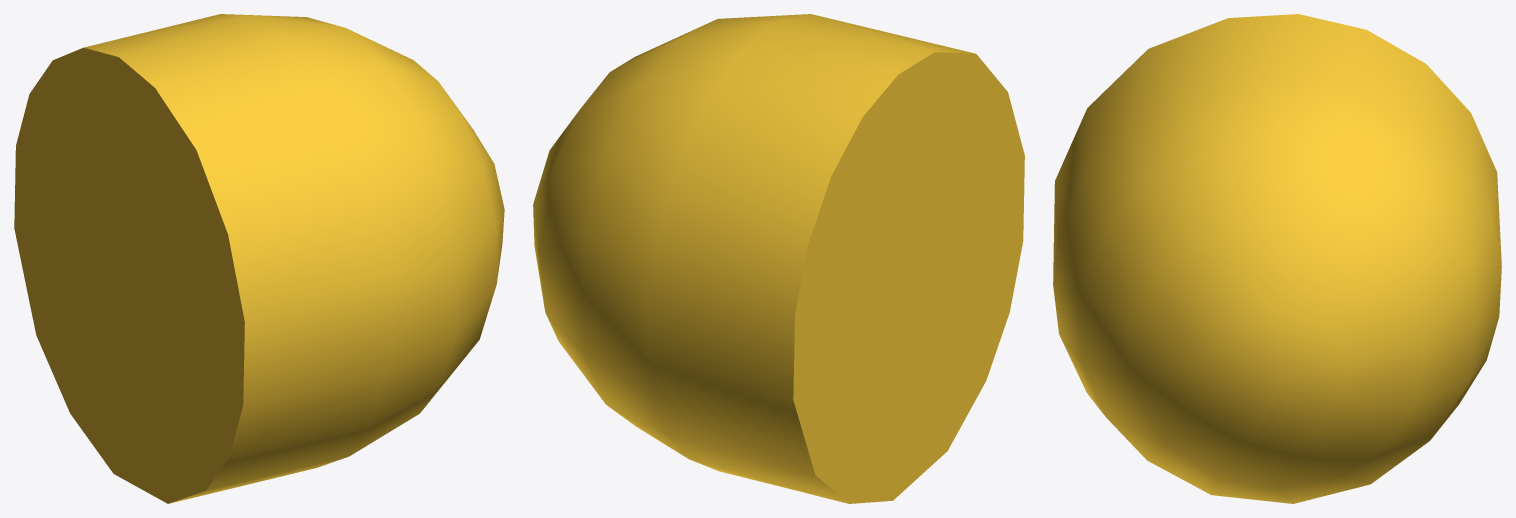
Rendered from bala_ignitium.obj.
The picture shows the model from 3 angles, left to right: view 1: azimuth 30°, elevation 25°; view 2: azimuth 150°, elevation 25°; view 3: azimuth 270°, elevation 25°; orthographic projection. The views are drawn at different scales.
Bounding box in the file's own units: 0.0392 × 0.0447 × 0.0448.
